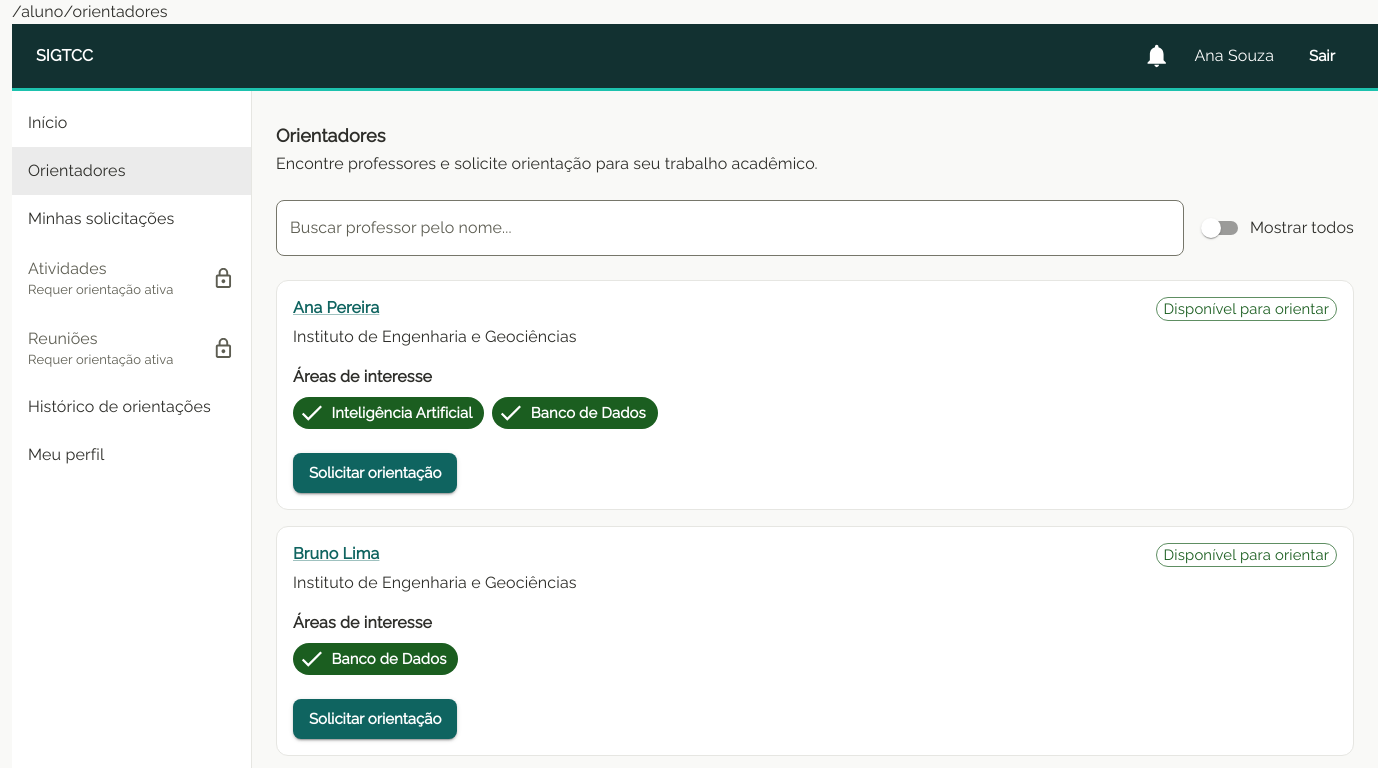
Test: AdvisorsPage: a lista › mostra em cada card o nome, o instituto e o selo de disponibilidade
Expected: the link "Ana Pereira" is shown, x1=293 y1=298 x2=379 y2=317
Click the switch labelled "Mostrar todos".
click(1278, 228)  # box x1=1201 y1=218 x2=1354 y2=238
(page scrolled)
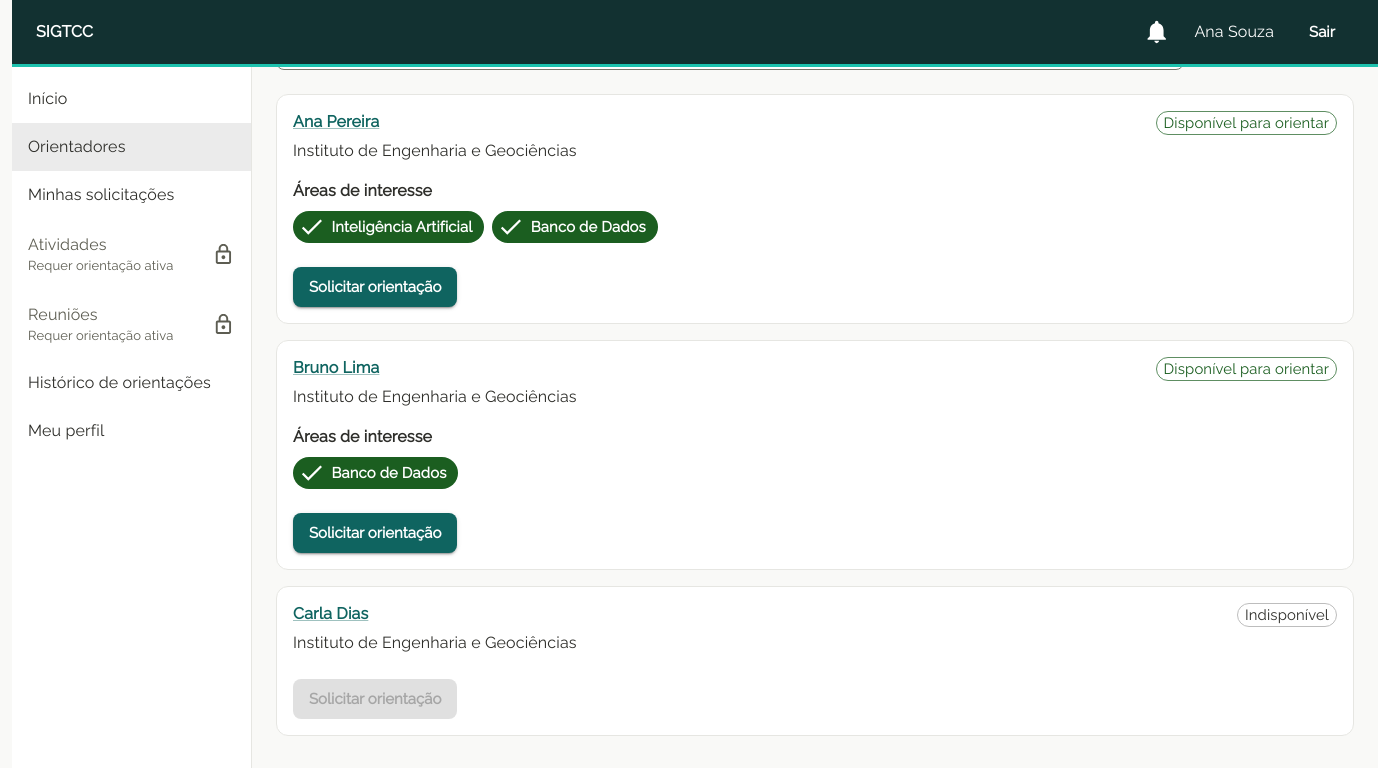
Expected: the link "Carla Dias" is shown, x1=293 y1=604 x2=368 y2=623
Expected: the text "Instituto de Engenharia e Geociências" below "Ana Pereira" is shown, x1=293 y1=141 x2=577 y2=160
Expected: the text "Indisponível" is shown, x1=1238 y1=604 x2=1336 y2=626
